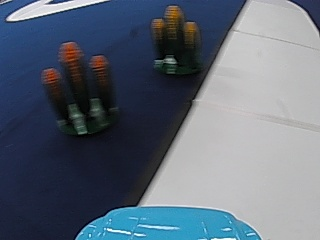corn: (42, 39, 116, 139), (150, 1, 203, 78)
